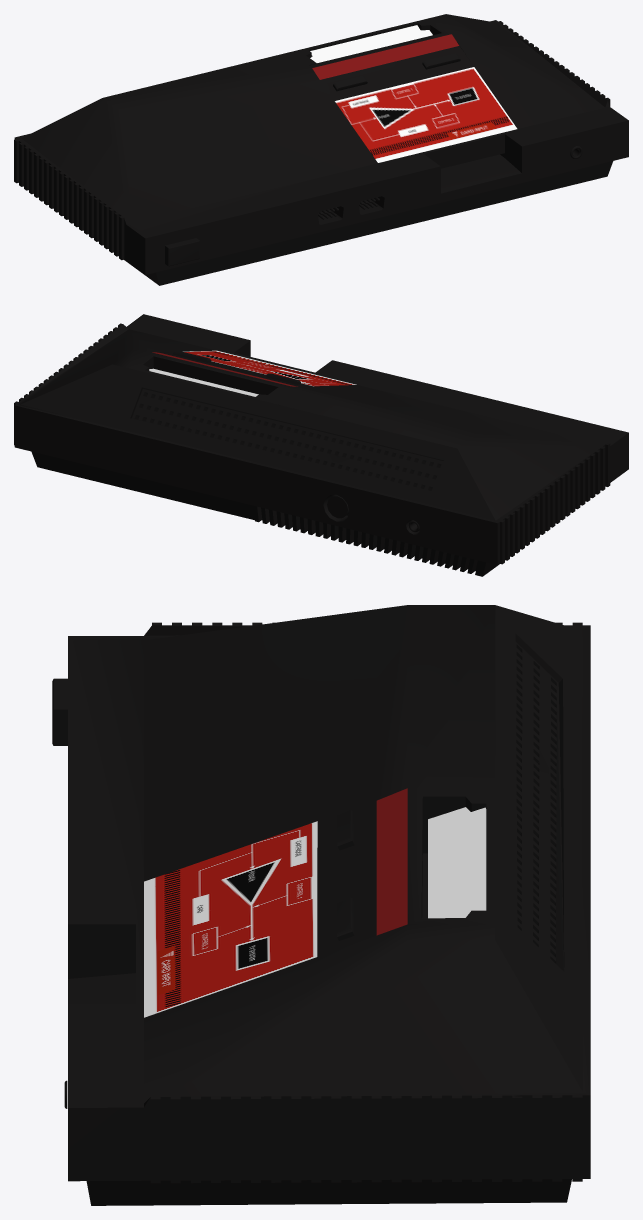
The model's file is master-system.glb.
3 renders of one model, top to bottom at view 1: azimuth 30°, elevation 25°; view 2: azimuth 150°, elevation 25°; view 3: azimuth 270°, elevation 25°, orthographic. The views are drawn at different scales.
Visible parts, largest first — view 1: metalbits, sms_lid; view 2: metalbits, sms_lid; view 3: metalbits, sms_lid.
Boxes of the visible parts, bbox=[...] form: metalbits: bbox=[14, 14, 628, 285]; sms_lid: bbox=[310, 25, 432, 62]; metalbits: bbox=[14, 314, 628, 576]; sms_lid: bbox=[149, 368, 258, 396]; metalbits: bbox=[52, 605, 590, 1205]; sms_lid: bbox=[428, 807, 486, 918].
Bounding box in the file's own units: 4.26 × 0.861 × 2.03.
4 materials, 2 textured.
